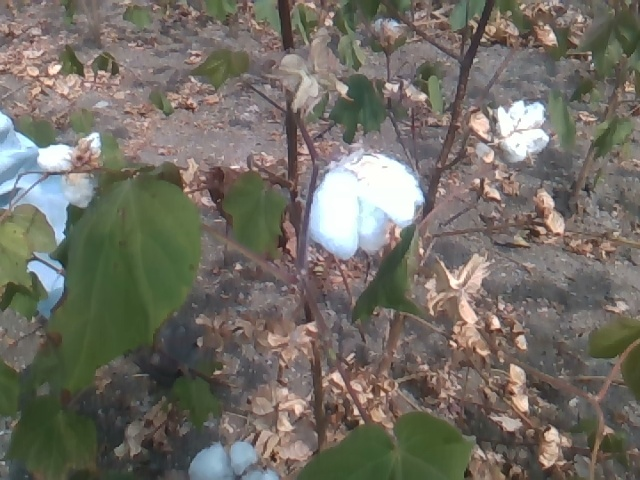cotton: (301, 148, 428, 252), (30, 133, 111, 204), (476, 96, 558, 163), (182, 435, 282, 479), (369, 17, 406, 39)
